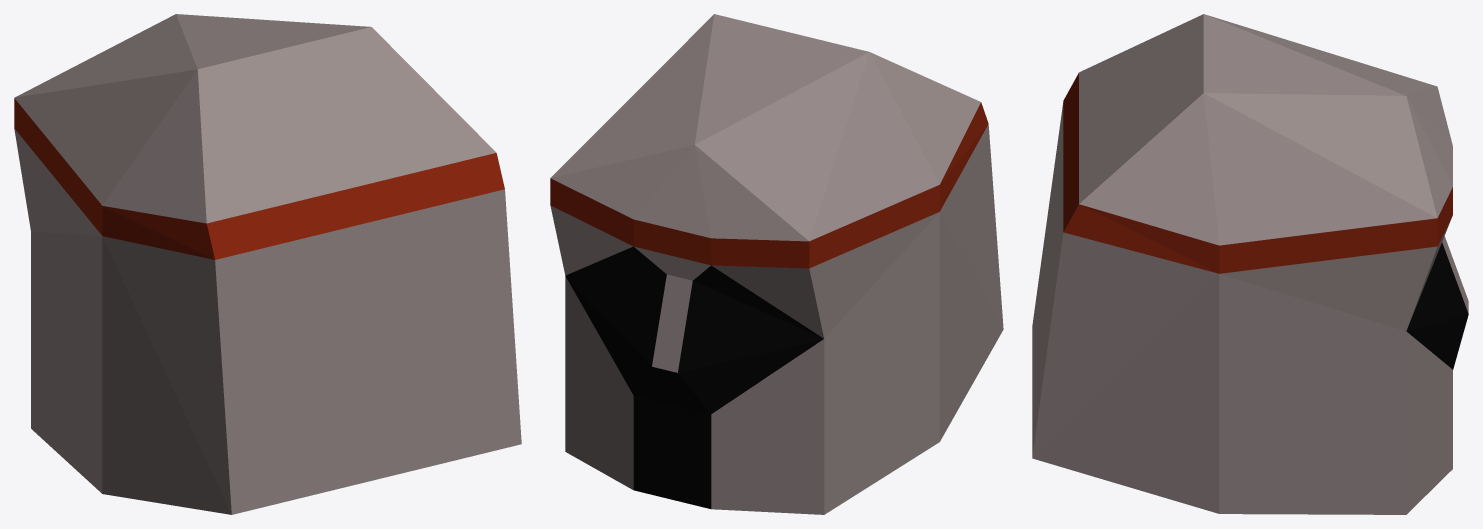
The model's file is inv_steel_med_helm.obj.
The picture shows the model from 3 angles, left to right: view 1: azimuth 30°, elevation 25°; view 2: azimuth 150°, elevation 25°; view 3: azimuth 270°, elevation 25°; orthographic projection. The views are drawn at different scales.
Bounding box in the file's own units: 0.1875 × 0.2188 × 0.2188.
